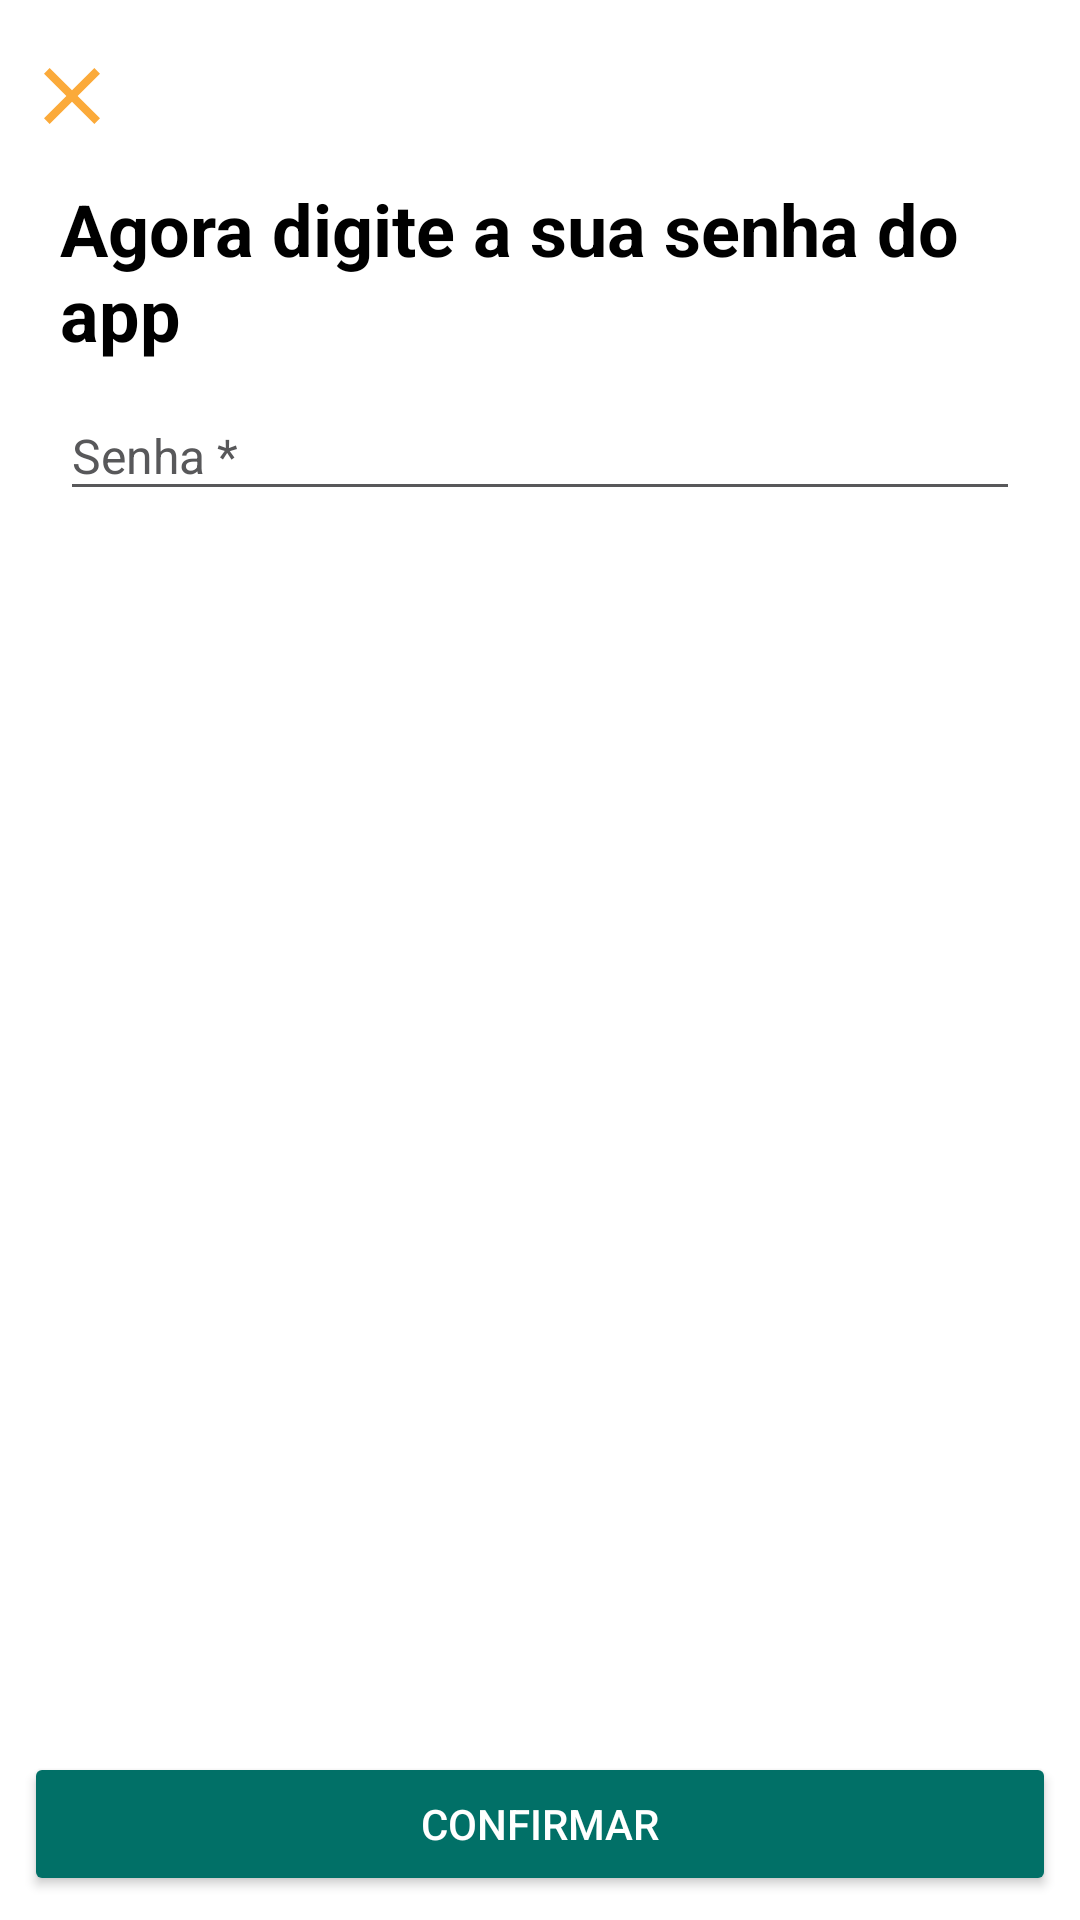

Icons on this 1080 × 1920 Android screen, each with the point to tap as point (x, y):
exit: point (72, 96)
